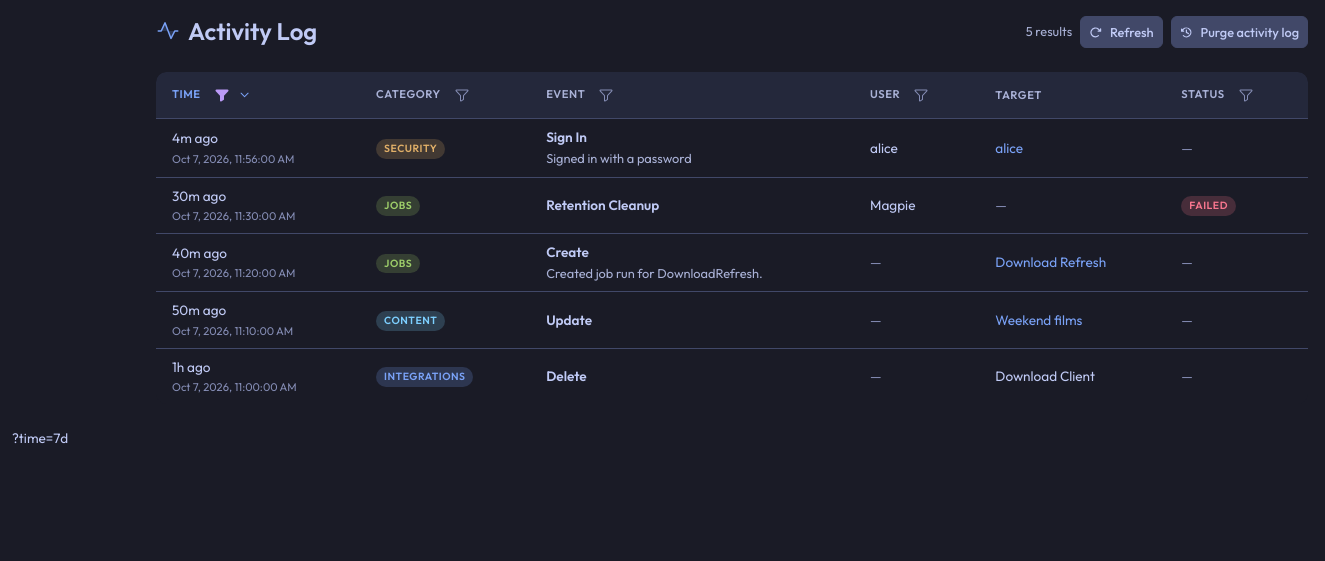
Test: ActivityLogPage › WritesTheDates_WhenBetweenDatesReplacesAPreset
The width and height of the screenshot is (1325, 561).
Click the button named "Time filtered, edit filter". click: [222, 95]
box: left=209, top=82, right=235, bottom=108
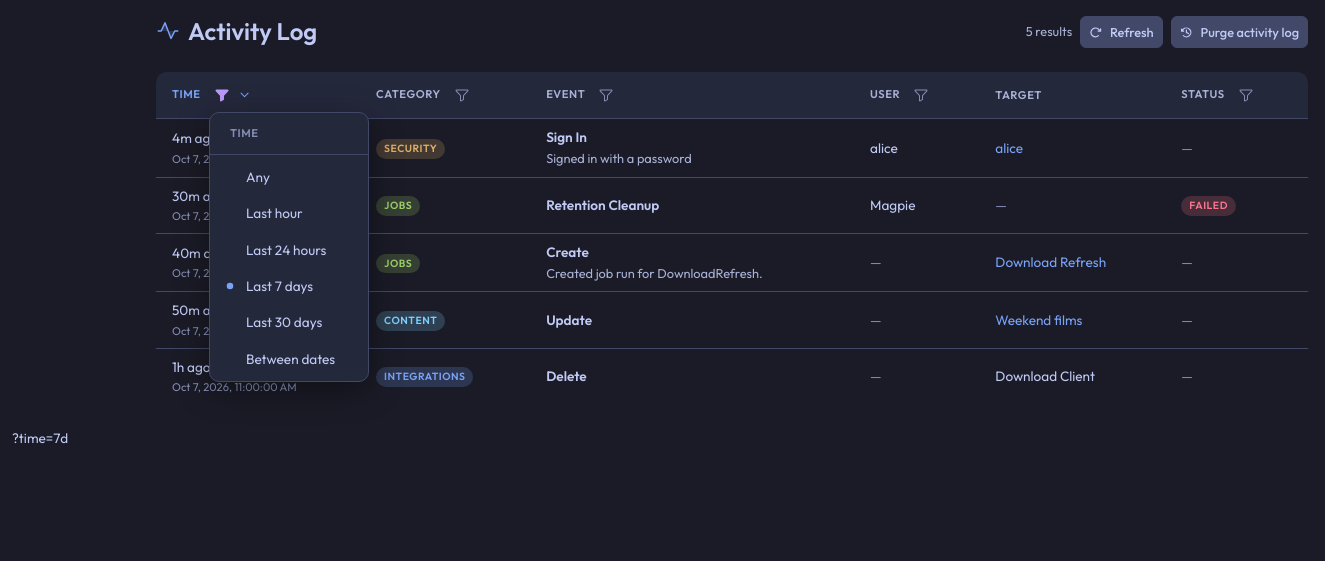
Click the menu item "Between dates". click: [291, 359]
box: left=246, top=350, right=335, bottom=368
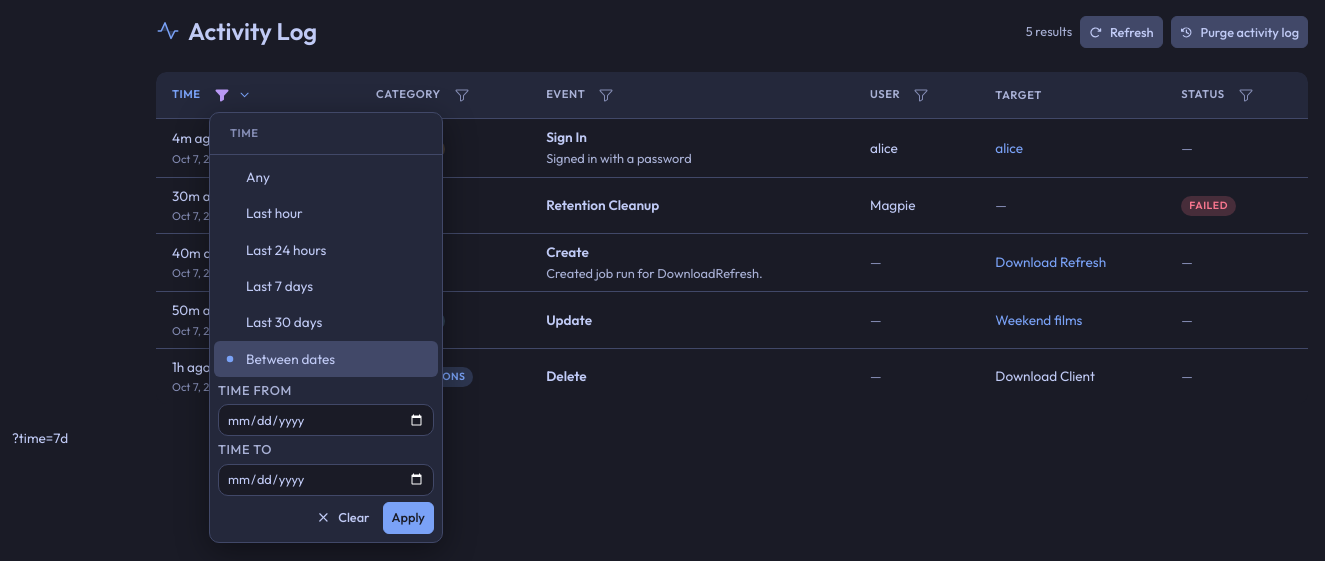
Type "2026-09-01" into the date field labelled "Time from". click: [326, 420]
box: left=219, top=406, right=433, bottom=435
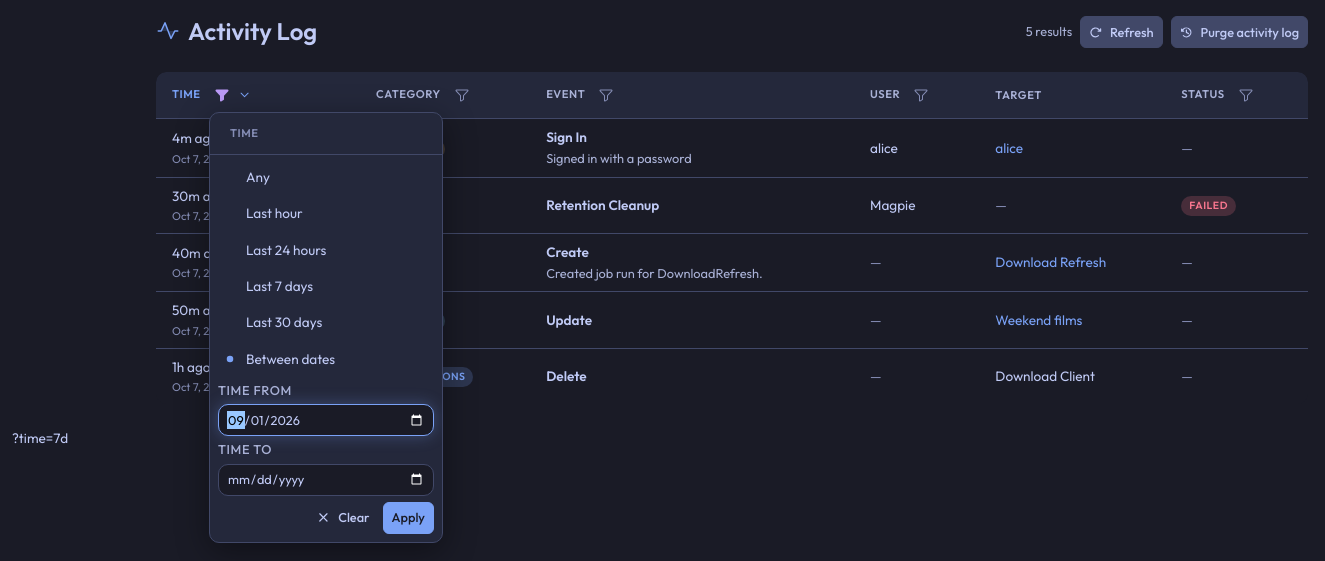
Type "2026-09-30" into the date field labelled "Time to". click: [326, 480]
box: left=219, top=465, right=433, bottom=494
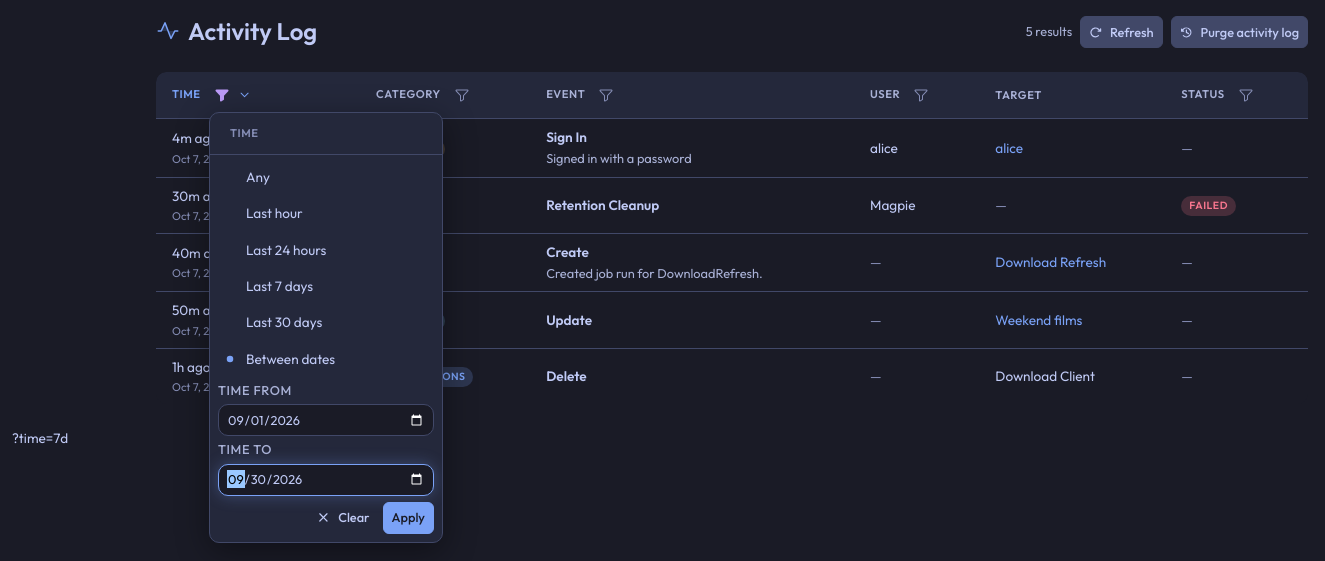
Click the button "Apply". click: [408, 518]
box: left=383, top=502, right=434, bottom=534
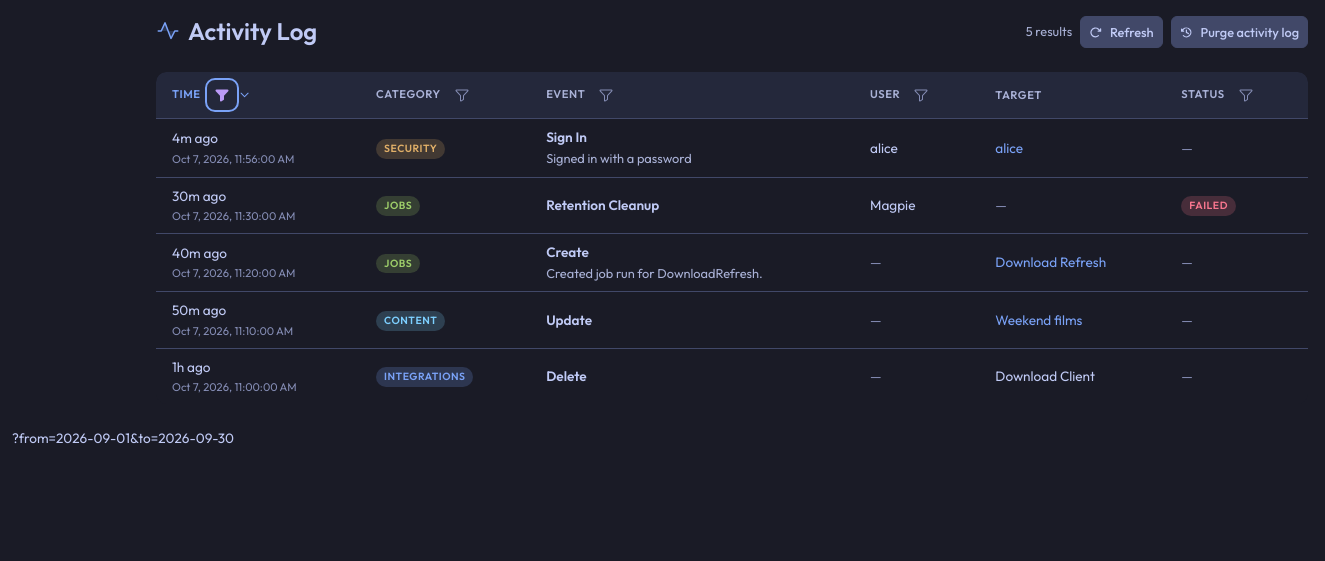
Result: the text with test id "activity-log-page__location-search" reads "?from=2026-09-01&to=2026-09-30" at left=12, top=429, right=234, bottom=447
